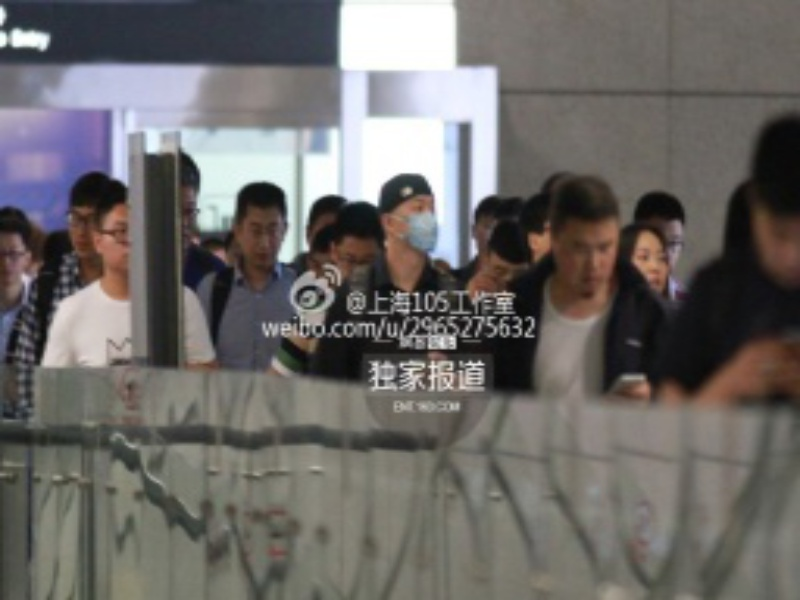ManaoArotava: (379, 173, 451, 254)
TsisyArotava: (549, 188, 621, 307)
